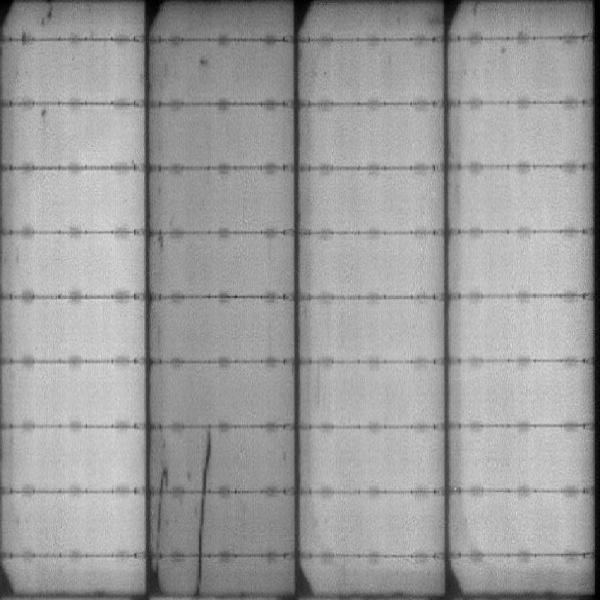scratch: (196, 430, 214, 597), (154, 466, 176, 578)
